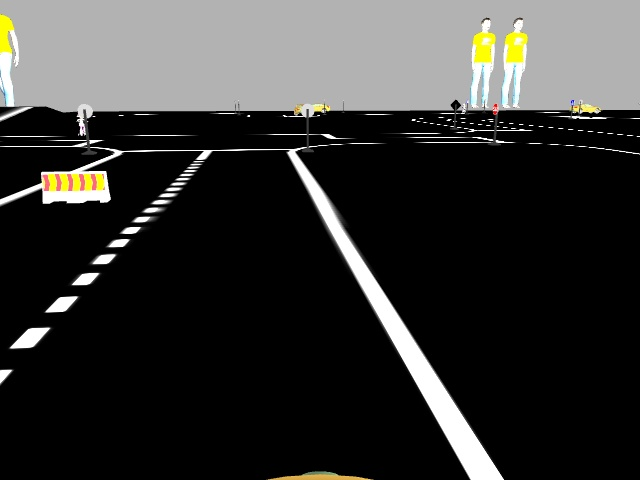ClosedRoadStand: (40, 171, 112, 201)
